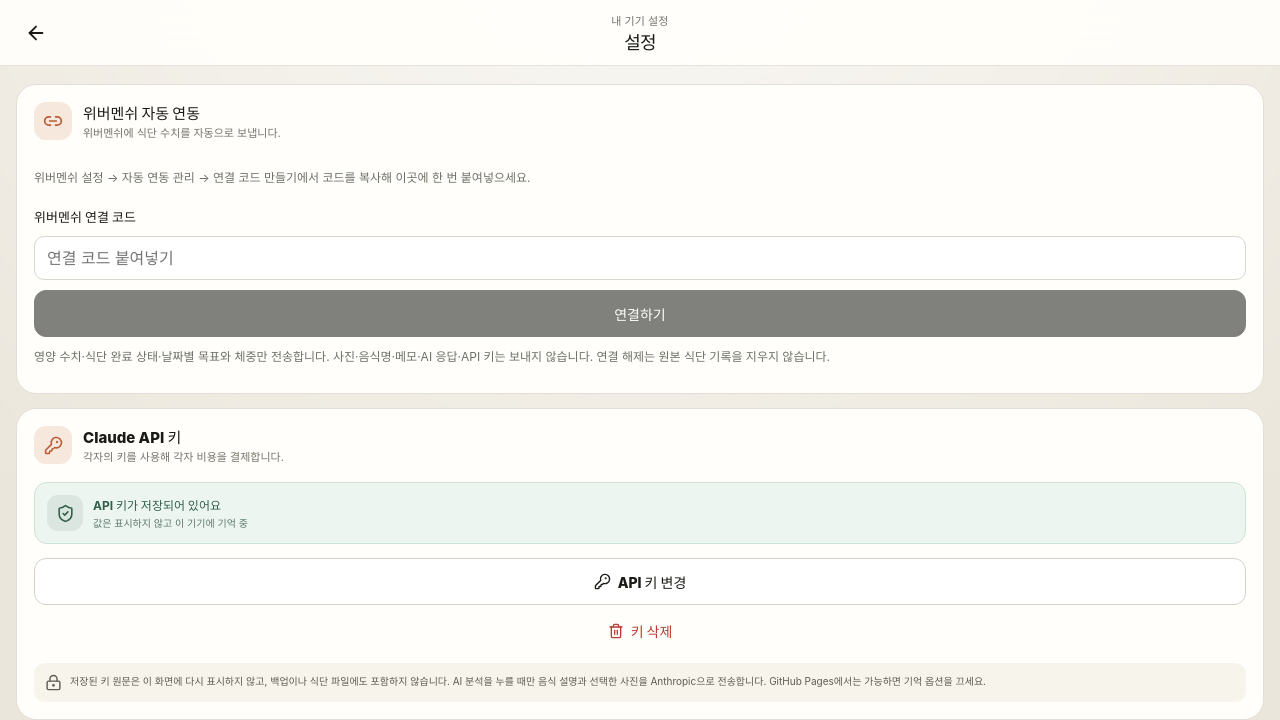
Test: 새 키는 연결 확인에 성공한 뒤 저장하고 입력 상태를 즉시 비운다
Click the button "API 키 변경". click: (640, 582)
box: [34, 558, 1246, 605]
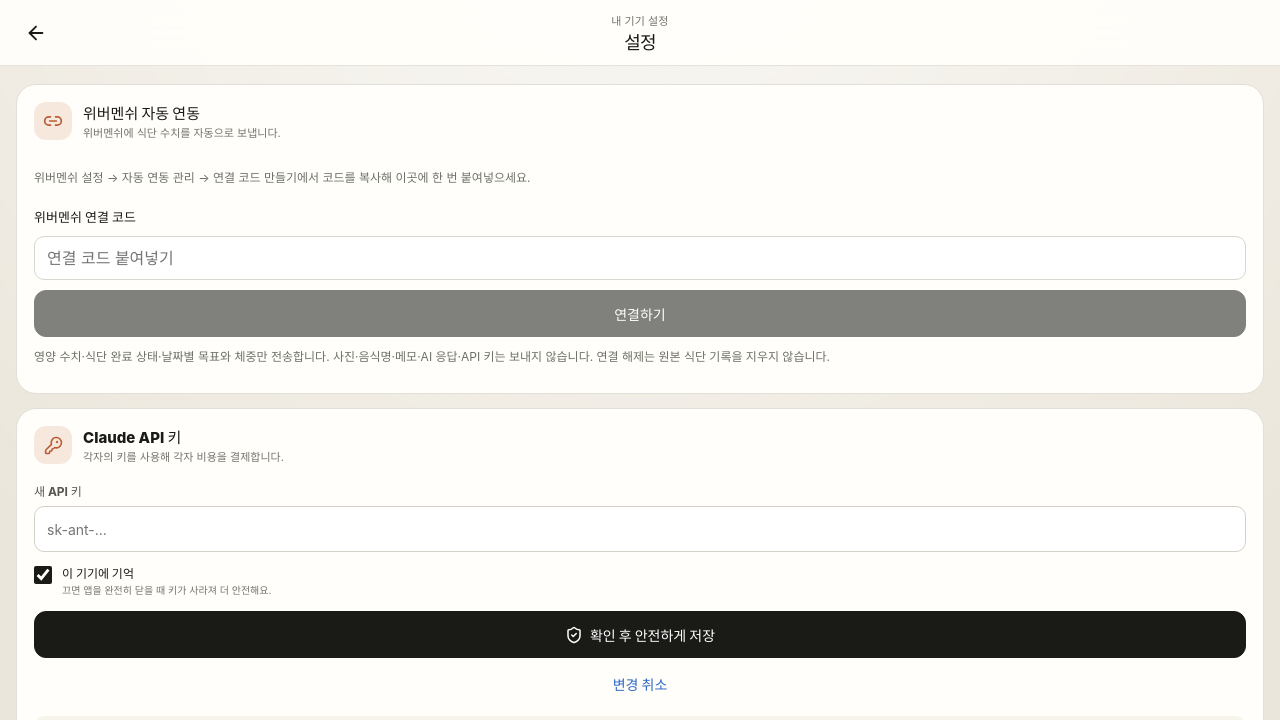
Type "  sk-ant-new-secret  " into the password field labelled "새 API 키". click: (640, 529)
box: [34, 506, 1246, 552]
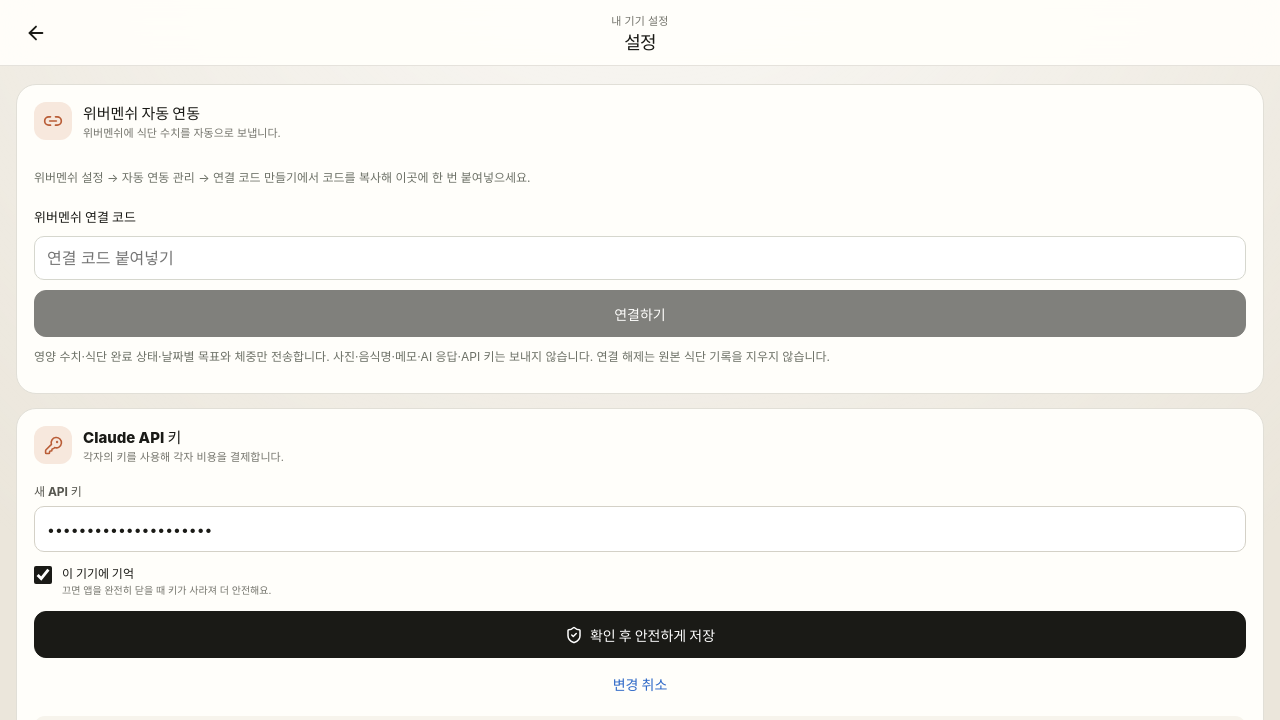
Click the button "확인 후 안전하게 저장". click: (640, 635)
box: [34, 611, 1246, 658]
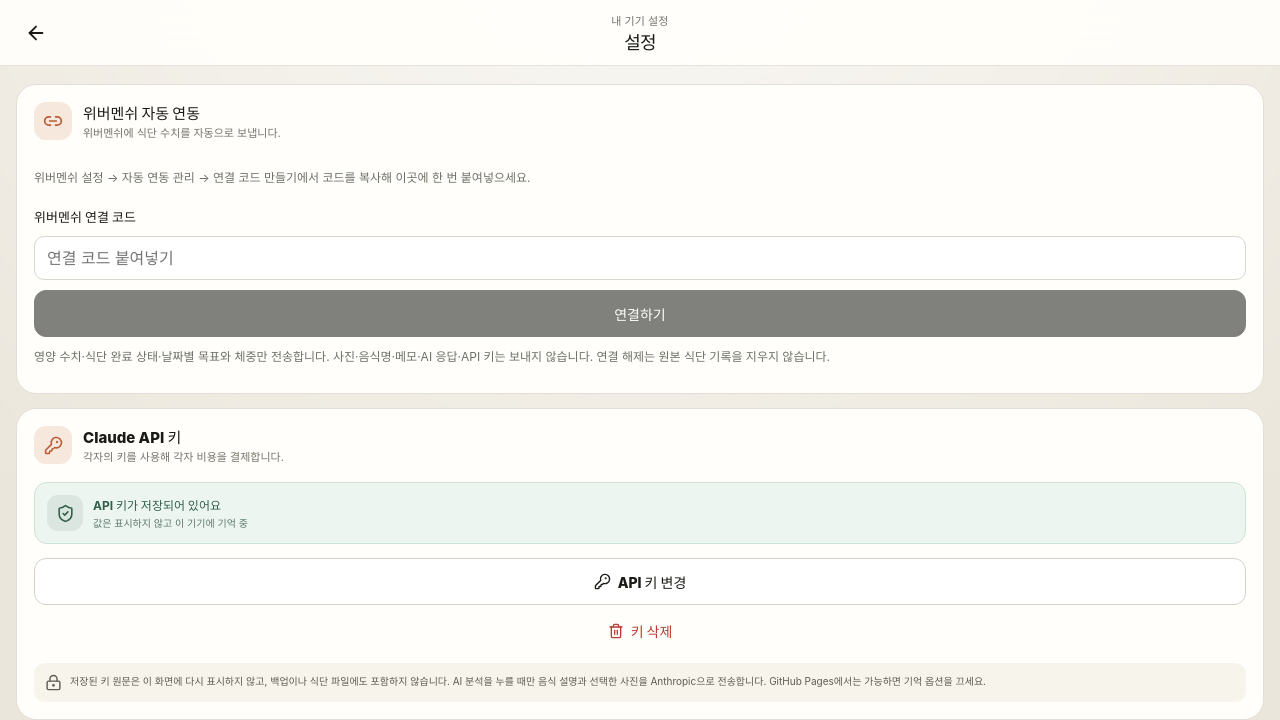
Now the text labelled "새 API 키" is gone
